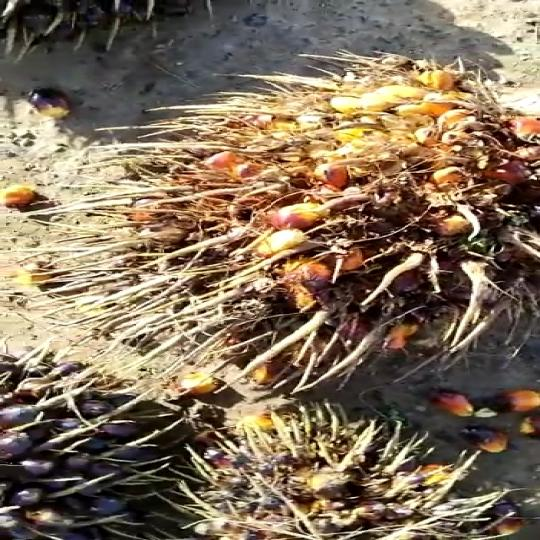terlalu masak: (93, 36, 540, 411)
